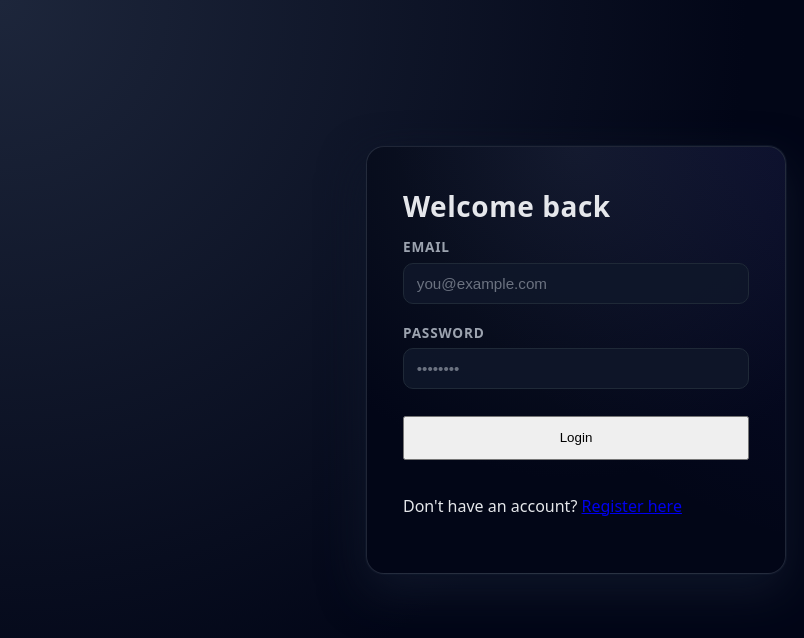
AuthPage › shows validation error when password is empty
Type "test@example.com" into the field with test id "input-email" at (576, 283), box x1=403 y1=263 x2=749 y2=304
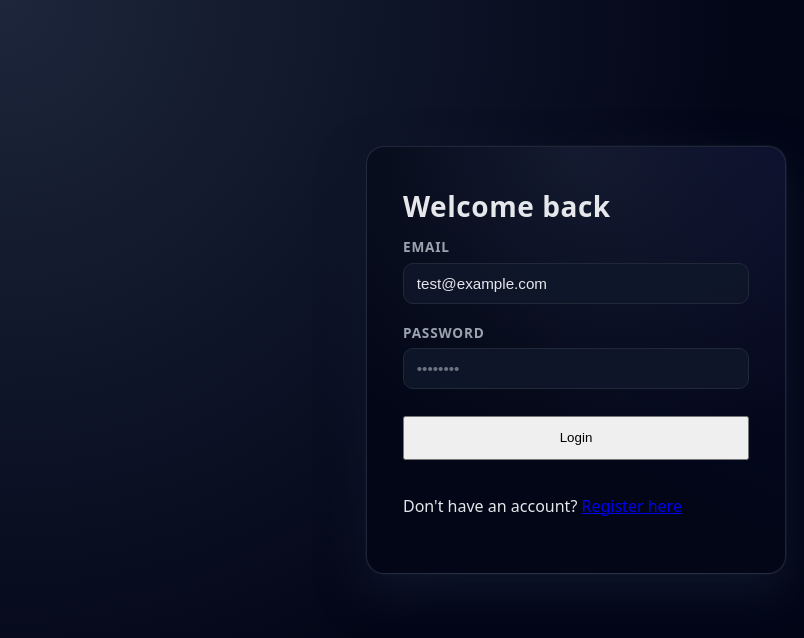
Click the button with test id "button-login" at (576, 438), box x1=403 y1=416 x2=749 y2=460
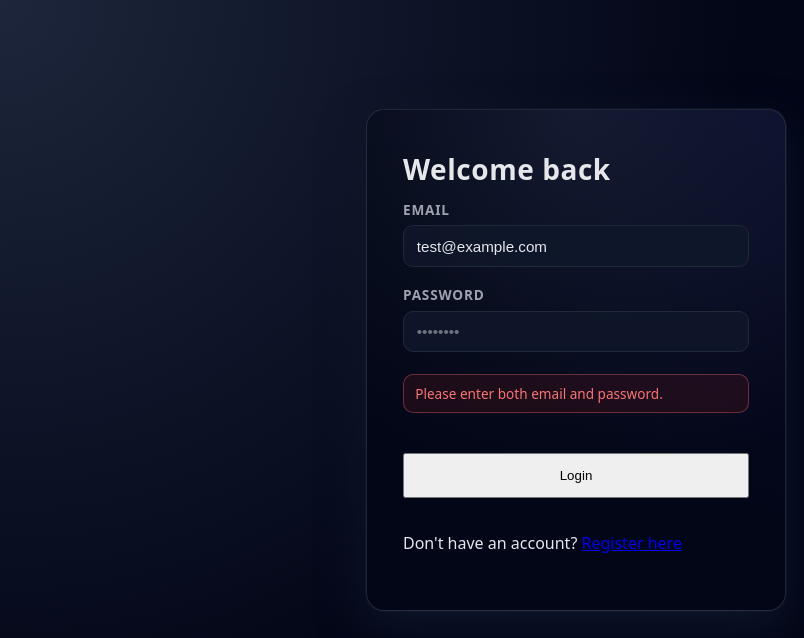
Now the text "Please enter both email and password." is shown, box x1=403 y1=374 x2=749 y2=413
